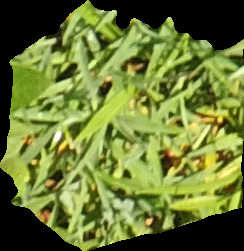grass: (1, 1, 242, 249)
